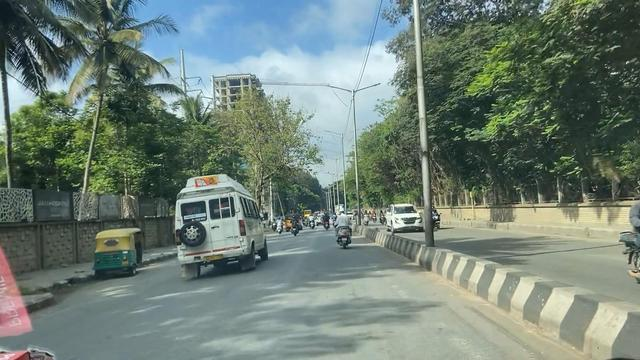HMV: (179, 166, 273, 273)
LMV: (95, 225, 146, 281)
